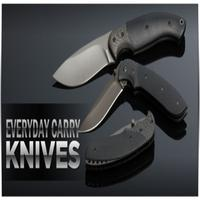knife: (49, 11, 186, 98), (71, 62, 190, 140)
